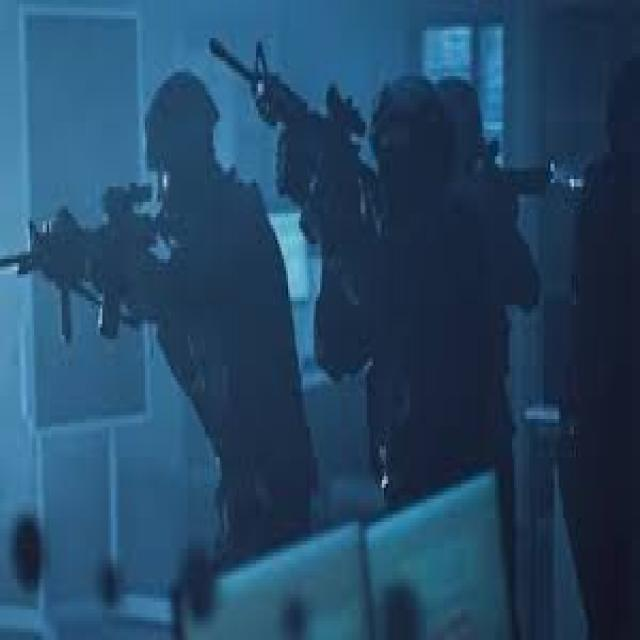weapon: (210, 29, 380, 258), (0, 178, 178, 352)
